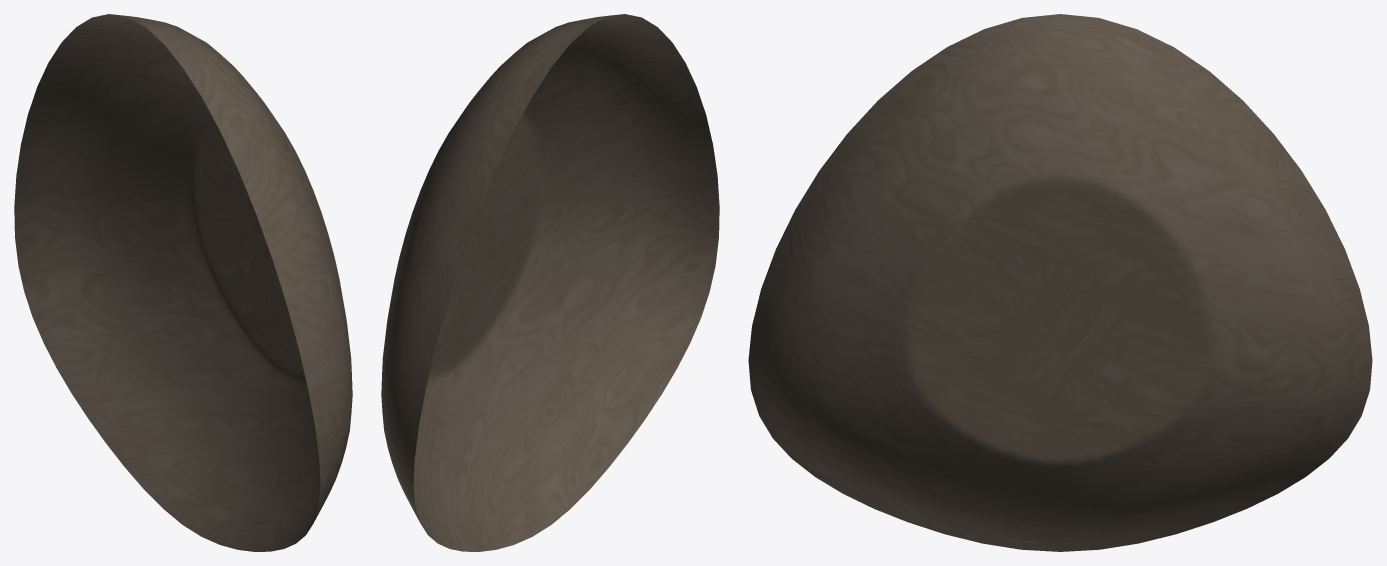
Rendered from oeuil alien bas.fbx.
3 renders of one model, left to right at view 1: azimuth 30°, elevation 25°; view 2: azimuth 150°, elevation 25°; view 3: azimuth 270°, elevation 25°, orthographic. The views are drawn at different scales.
Visible parts, largest first — view 1: Oeuil alien bas; view 2: Oeuil alien bas; view 3: Oeuil alien bas.
Part boxes in pixels (bbox=[...]): Oeuil alien bas: bbox=[14, 14, 352, 551]; Oeuil alien bas: bbox=[381, 14, 719, 551]; Oeuil alien bas: bbox=[748, 14, 1372, 551].
Bounding box in the file's own units: 5.17 × 18.93 × 20.61.
Materials: 1 (1 with a texture image).
